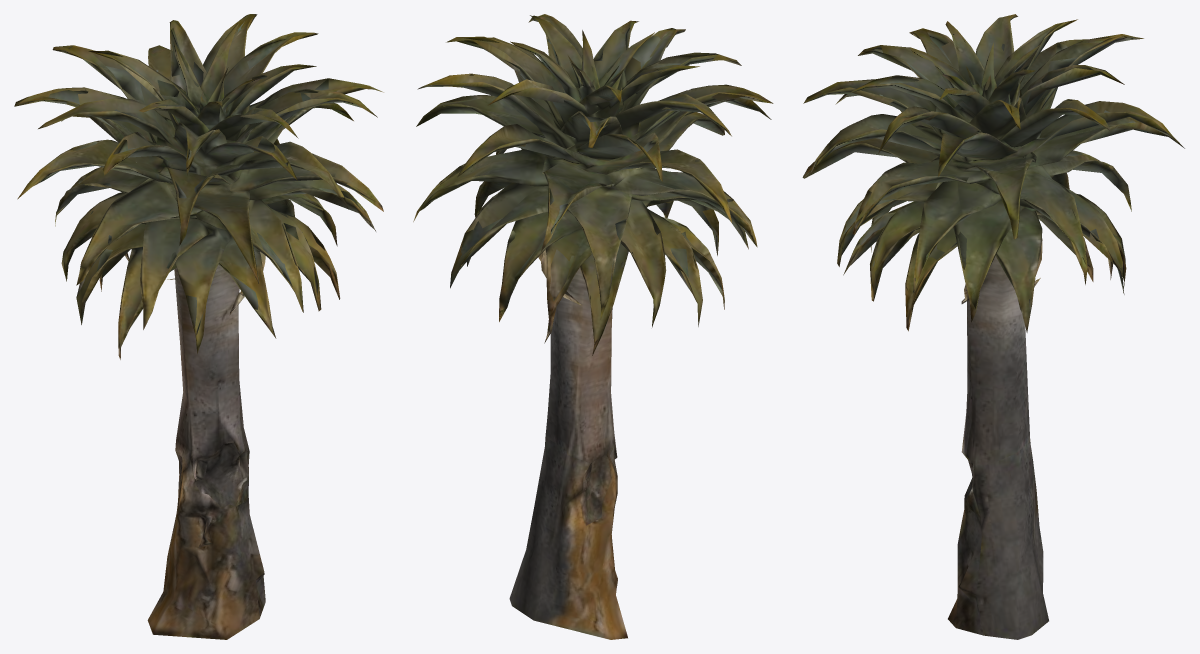
The model's file is tree_quiver_b.glb.
3 views of the same model, side by side, from view 1: azimuth 30°, elevation 25°; view 2: azimuth 150°, elevation 25°; view 3: azimuth 270°, elevation 25° (orthographic).
Size of the model in its own units: 0.8652 by 1.47 by 0.8754.
Materials: 1 (1 with a texture image).
